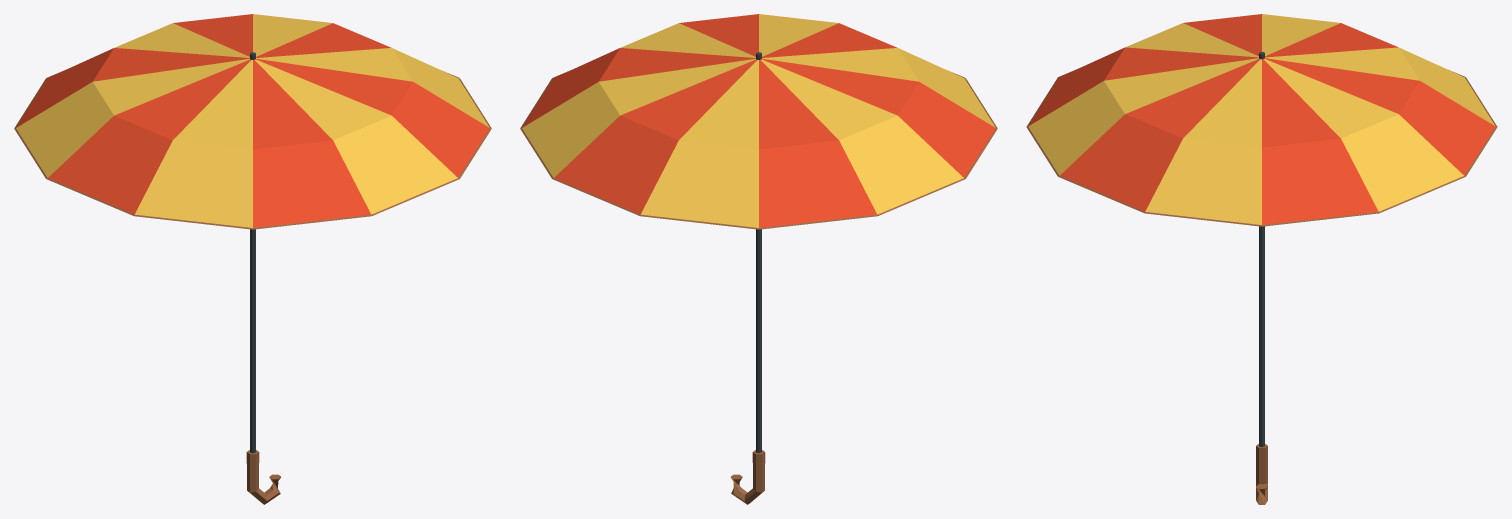
The model's file is umbrella.glb.
3 views of the same model, side by side, from view 1: azimuth 30°, elevation 25°; view 2: azimuth 150°, elevation 25°; view 3: azimuth 270°, elevation 25° (orthographic).
Parts seen in each view (by area): view 1: umbrella; view 2: umbrella; view 3: umbrella.
Part boxes in pixels (x1,y1,x2,y2): umbrella: [14, 14, 491, 504]; umbrella: [520, 14, 997, 504]; umbrella: [1026, 14, 1497, 504].
Size of the model in its own units: 0.9239 by 0.966 by 0.9239.
